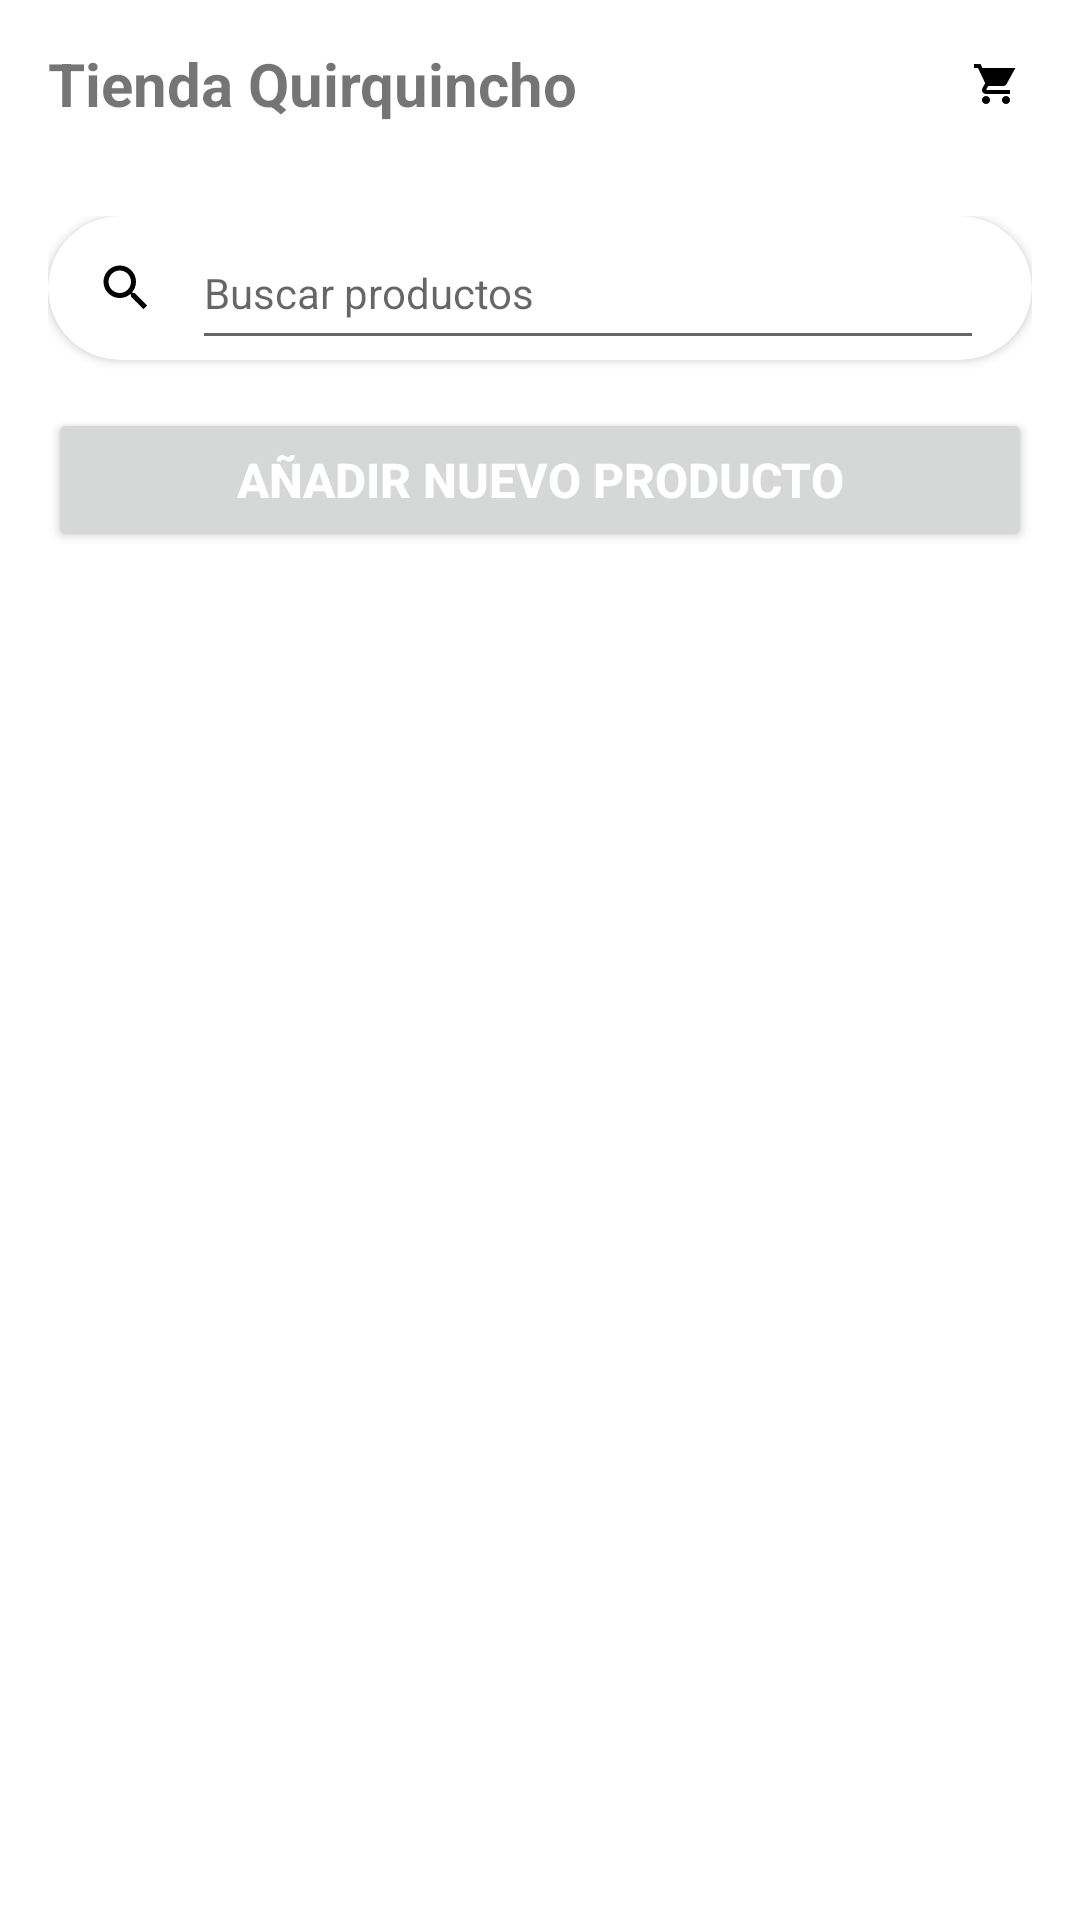

Where icons sit on this 1080px×1920px app screen, as (x1, y1, x2, y2):
Carrito de compras: (974, 64, 1016, 104)
